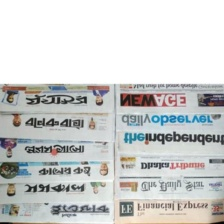news_paper: (0, 82, 113, 114), (113, 82, 224, 113), (0, 113, 115, 142), (0, 176, 116, 203), (0, 135, 115, 162), (0, 199, 116, 224), (112, 153, 224, 177), (0, 160, 116, 183), (114, 199, 224, 223), (112, 176, 224, 199), (114, 133, 224, 155), (114, 111, 223, 132)
